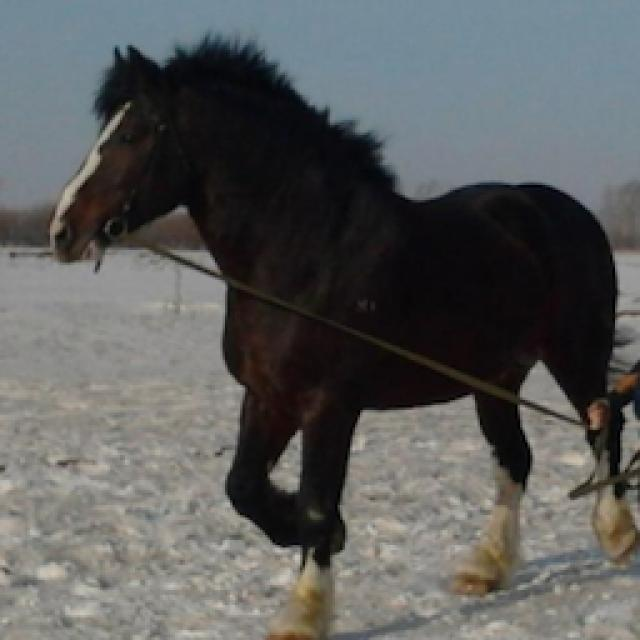Horse: (42, 30, 638, 638)
